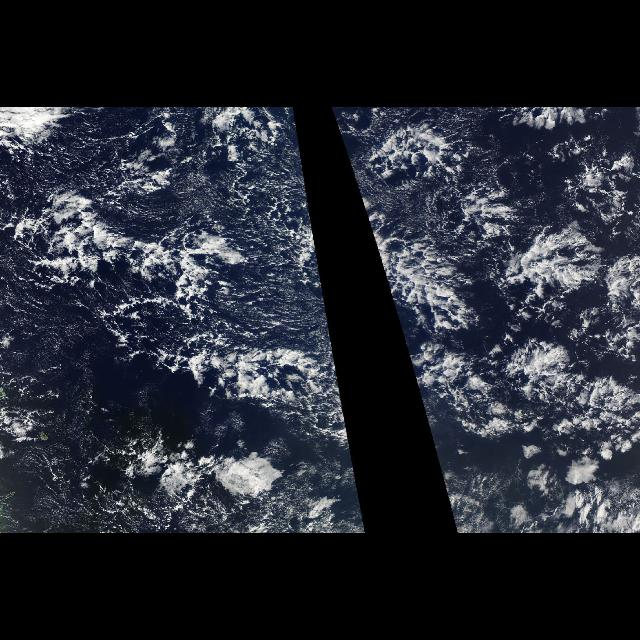Fish: (367, 124, 639, 454), (120, 320, 350, 454), (8, 200, 225, 316)
Gravel: (226, 148, 314, 322)
